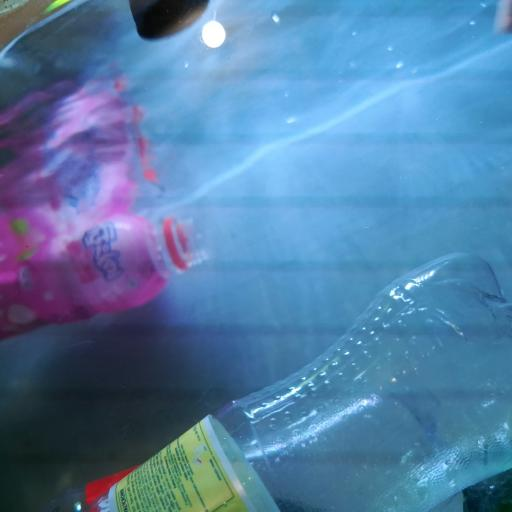bottle_cap: (131, 1, 210, 44)
plastic_bottle: (73, 255, 510, 511), (80, 397, 463, 512), (0, 209, 212, 337)
